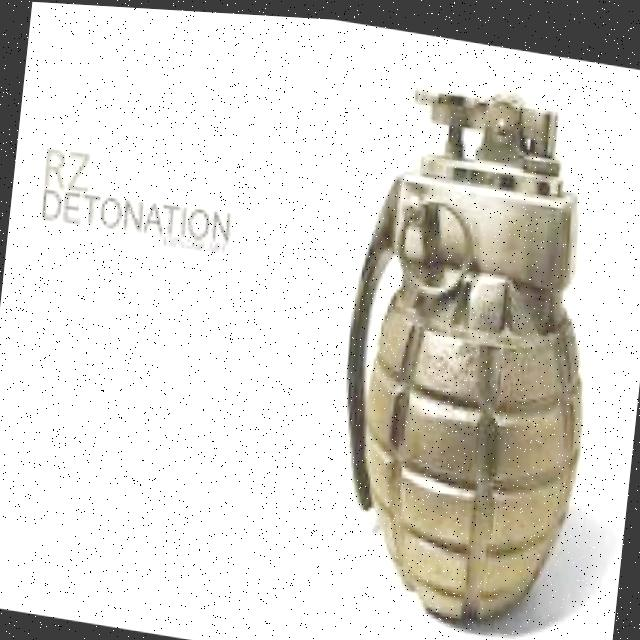grenade: (311, 51, 625, 640)
